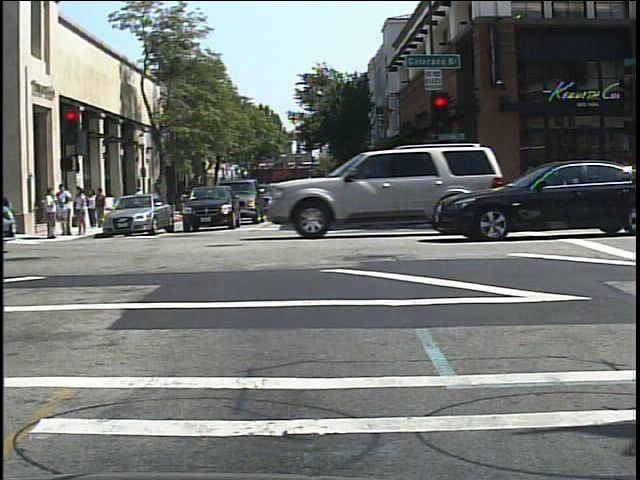person: (175, 182, 192, 218), (132, 183, 147, 216), (88, 187, 99, 231)
